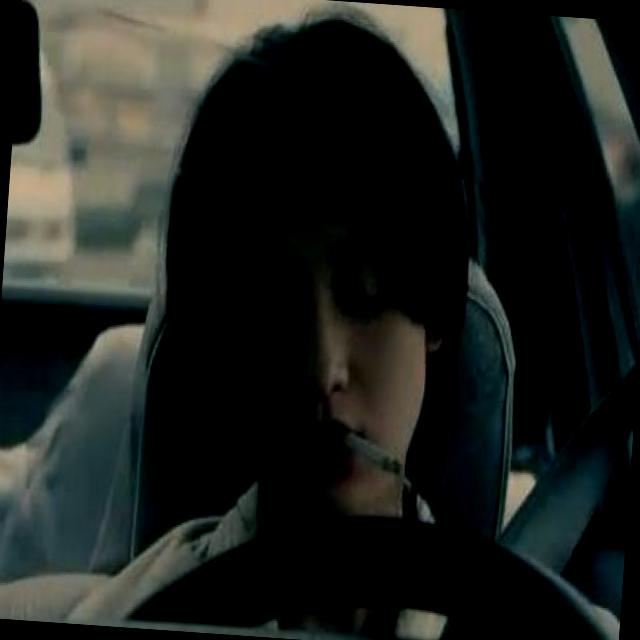cigarette: (336, 428, 404, 482)
